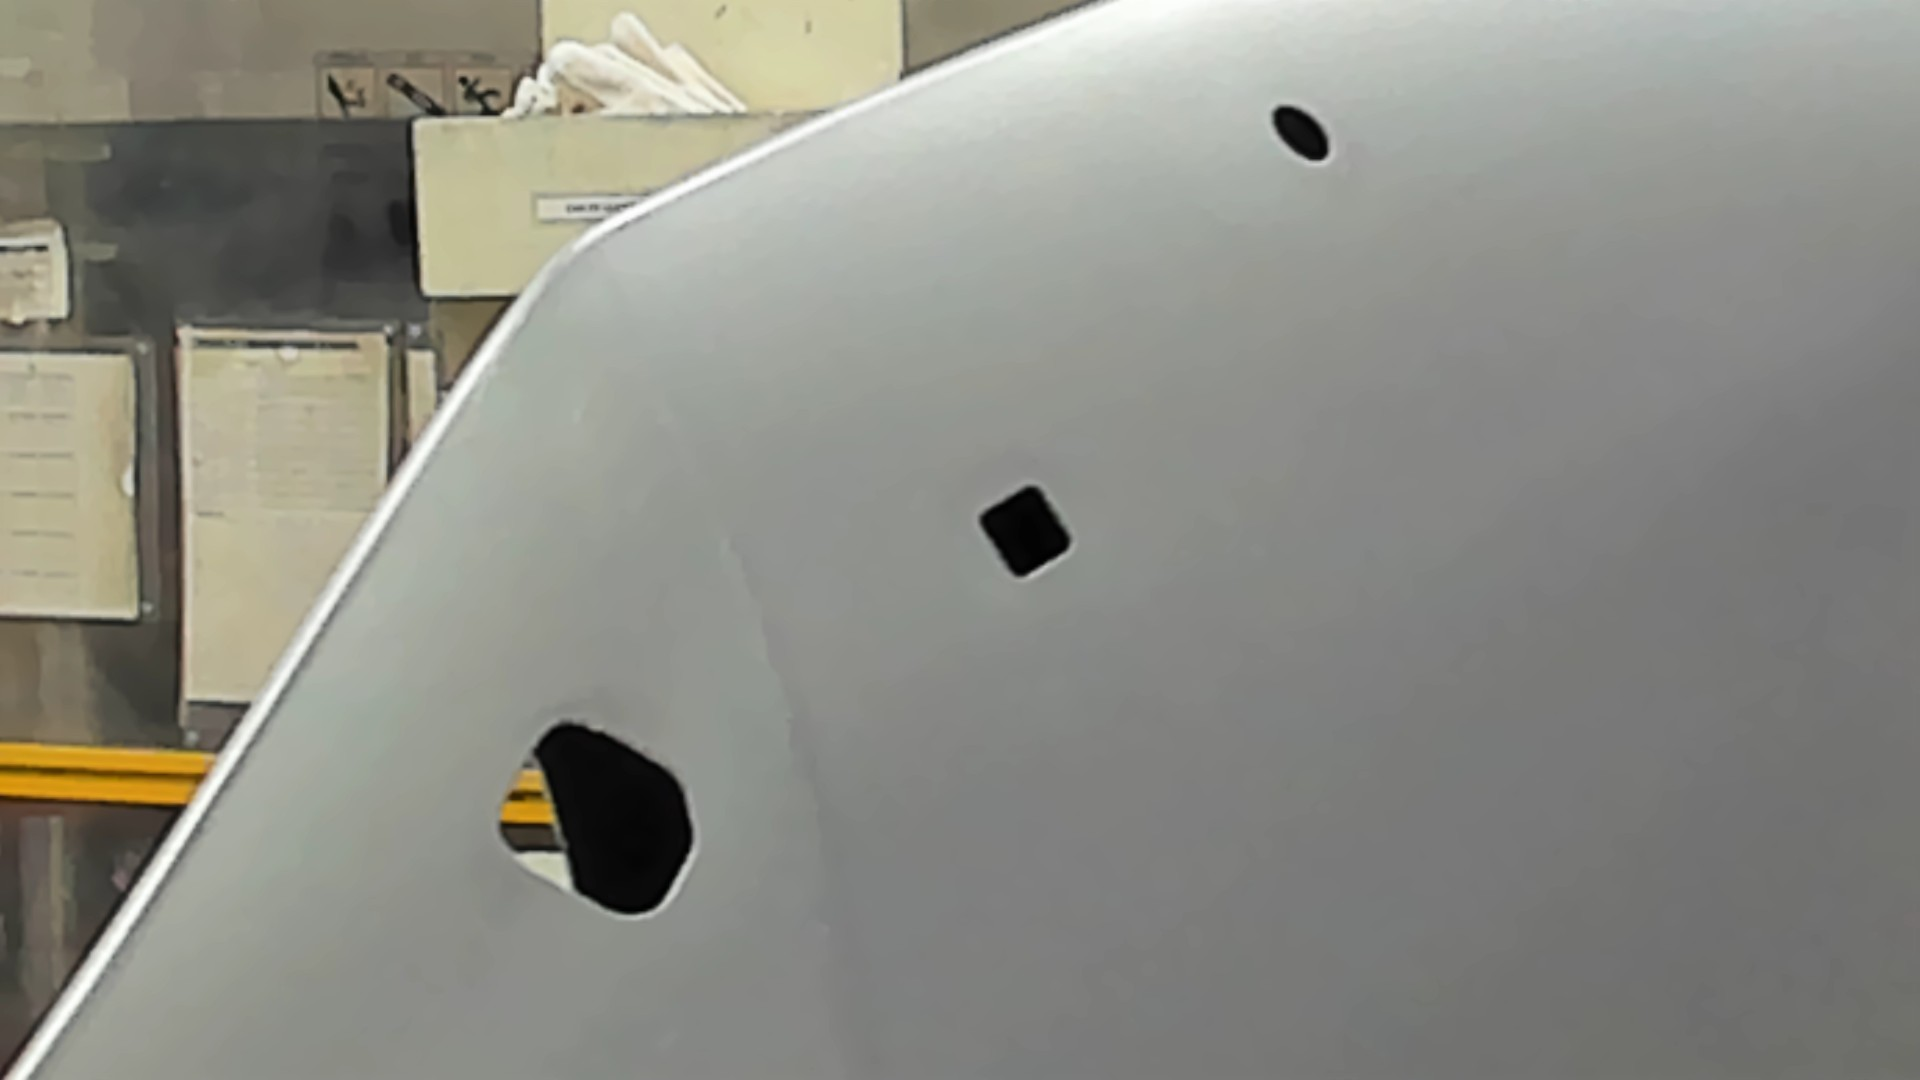capo: (1080, 175, 1920, 1080)
chico: (1269, 99, 1336, 167)
grande: (489, 711, 702, 927)
mediano: (969, 477, 1083, 587)
